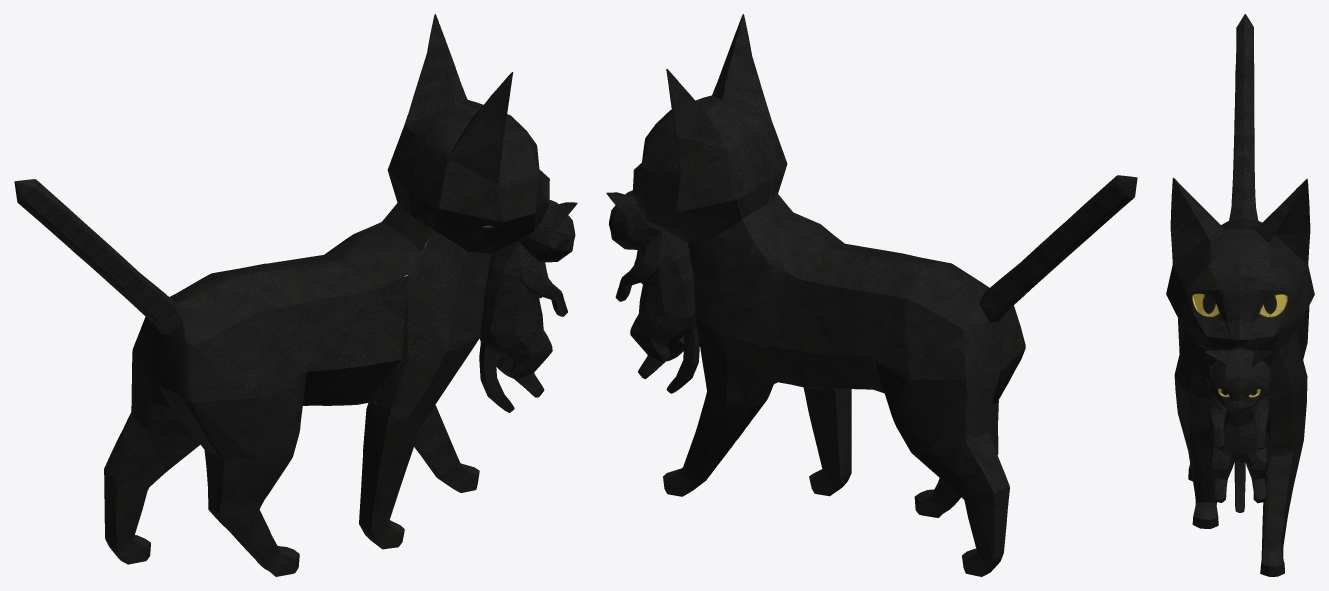
The model's file is KURONEKCAT.glb.
3 renders of one model, left to right at view 1: azimuth 30°, elevation 25°; view 2: azimuth 150°, elevation 25°; view 3: azimuth 270°, elevation 25°, orthographic. The views are drawn at different scales.
Visible parts, largest first — view 1: fit; view 2: fit; view 3: fit.
Part boxes in pixels (x1,y1,x2,y2): fit: [14, 14, 577, 576]; fit: [606, 14, 1137, 576]; fit: [1166, 14, 1314, 576].
Bounding box in the file's own units: 1.27 × 1 × 0.3455.
Materials: 1 (1 with a texture image).
